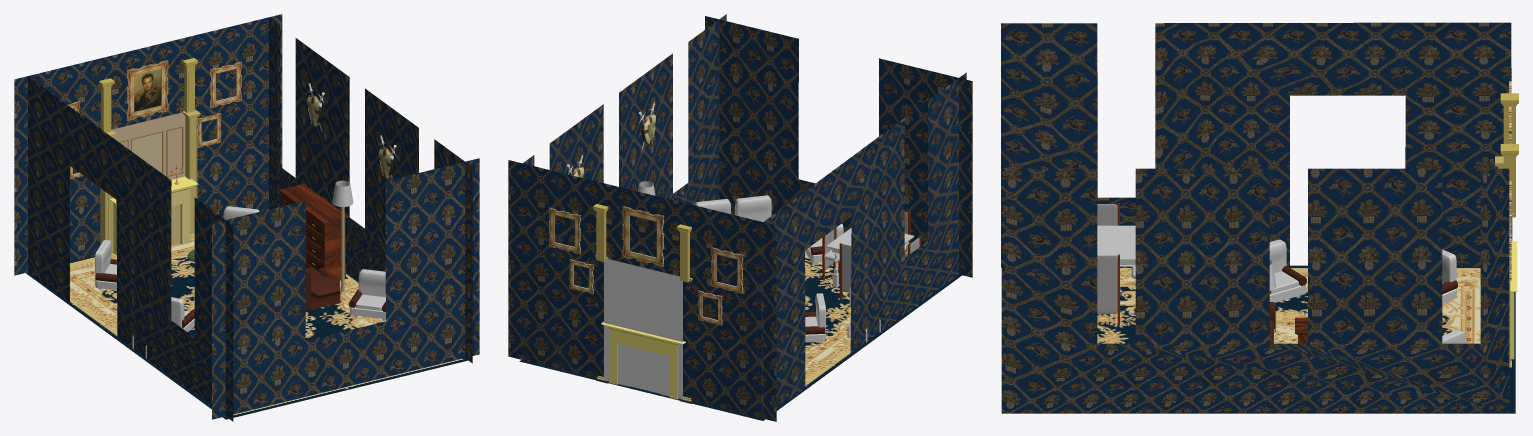
Rendered from family_room 1.fbx.
3 views of the same model, side by side, from view 1: azimuth 30°, elevation 25°; view 2: azimuth 150°, elevation 25°; view 3: azimuth 270°, elevation 25° (orthographic). The views are drawn at different scales.
Visible parts, largest first — view 1: wall_paper, floor, wide_cabinet, photo_frame, fireplace_back, fireplace_pillar, sofa_back, wide_sofa, fireplace_pillar_up, grandfather_phot, mirror, shield (+7 smaller); view 2: wall_paper, wardrobe_back, floor, photo_frame, fireplace_out, sofa_back, fireplace_pillar_up, chair_back, chair_leg, shield; view 3: wall_paper, floor, chair_back, tale_face, fireplace_pillar_up, sofa_back, fireplace_out, sofa_cushion.
Boxes of the visible parts, <box> form: wall_paper: <box>14,14,479,421</box>; floor: <box>26,237,468,419</box>; wide_cabinet: <box>279,184,348,280</box>; photo_frame: <box>67,60,241,179</box>; fireplace_back: <box>111,112,185,179</box>; fireplace_pillar: <box>100,109,200,257</box>; sofa_back: <box>95,206,385,327</box>; wide_sofa: <box>305,267,340,310</box>; fireplace_pillar_up: <box>99,58,197,132</box>; grandfather_phot: <box>134,69,161,111</box>; mirror: <box>132,132,161,172</box>; shield: <box>307,95,393,179</box>; wall_paper: <box>508,14,972,421</box>; wardrobe_back: <box>604,258,682,399</box>; floor: <box>519,252,961,420</box>; photo_frame: <box>548,206,743,325</box>; fireplace_out: <box>601,322,685,399</box>; sofa_back: <box>695,195,843,340</box>; fireplace_pillar_up: <box>593,204,691,282</box>; chair_back: <box>825,211,919,292</box>; chair_leg: <box>822,211,921,300</box>; shield: <box>571,114,655,178</box>; wall_paper: <box>1001,22,1512,413</box>; floor: <box>1011,265,1515,413</box>; chair_back: <box>1097,204,1117,314</box>; tale_face: <box>1097,225,1135,266</box>; fireplace_pillar_up: <box>1500,93,1518,217</box>; sofa_back: <box>1269,239,1465,343</box>; fireplace_out: <box>1510,241,1517,359</box>; sofa_cushion: <box>1269,284,1456,303</box>.
Bounding box in the file's own units: 400 × 283 × 537.
